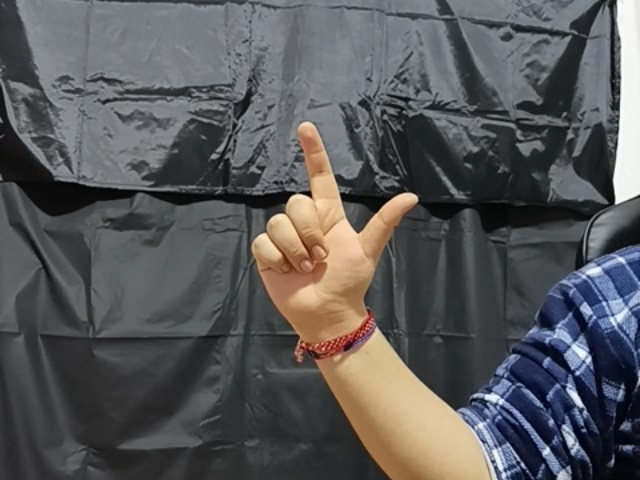L: (239, 121, 422, 318)
